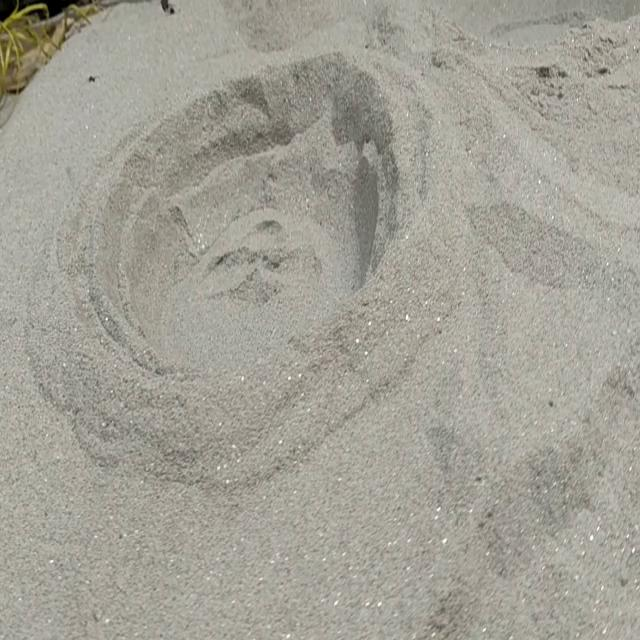C20: (94, 62, 395, 369)
